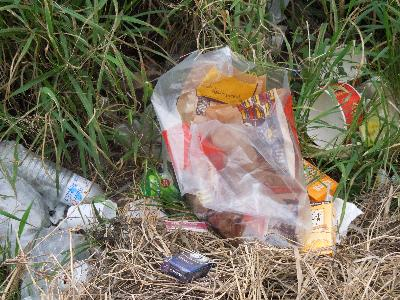bottle: (3, 141, 117, 217)
bowl: (306, 79, 365, 151)
plastic_bag: (153, 47, 315, 249)
